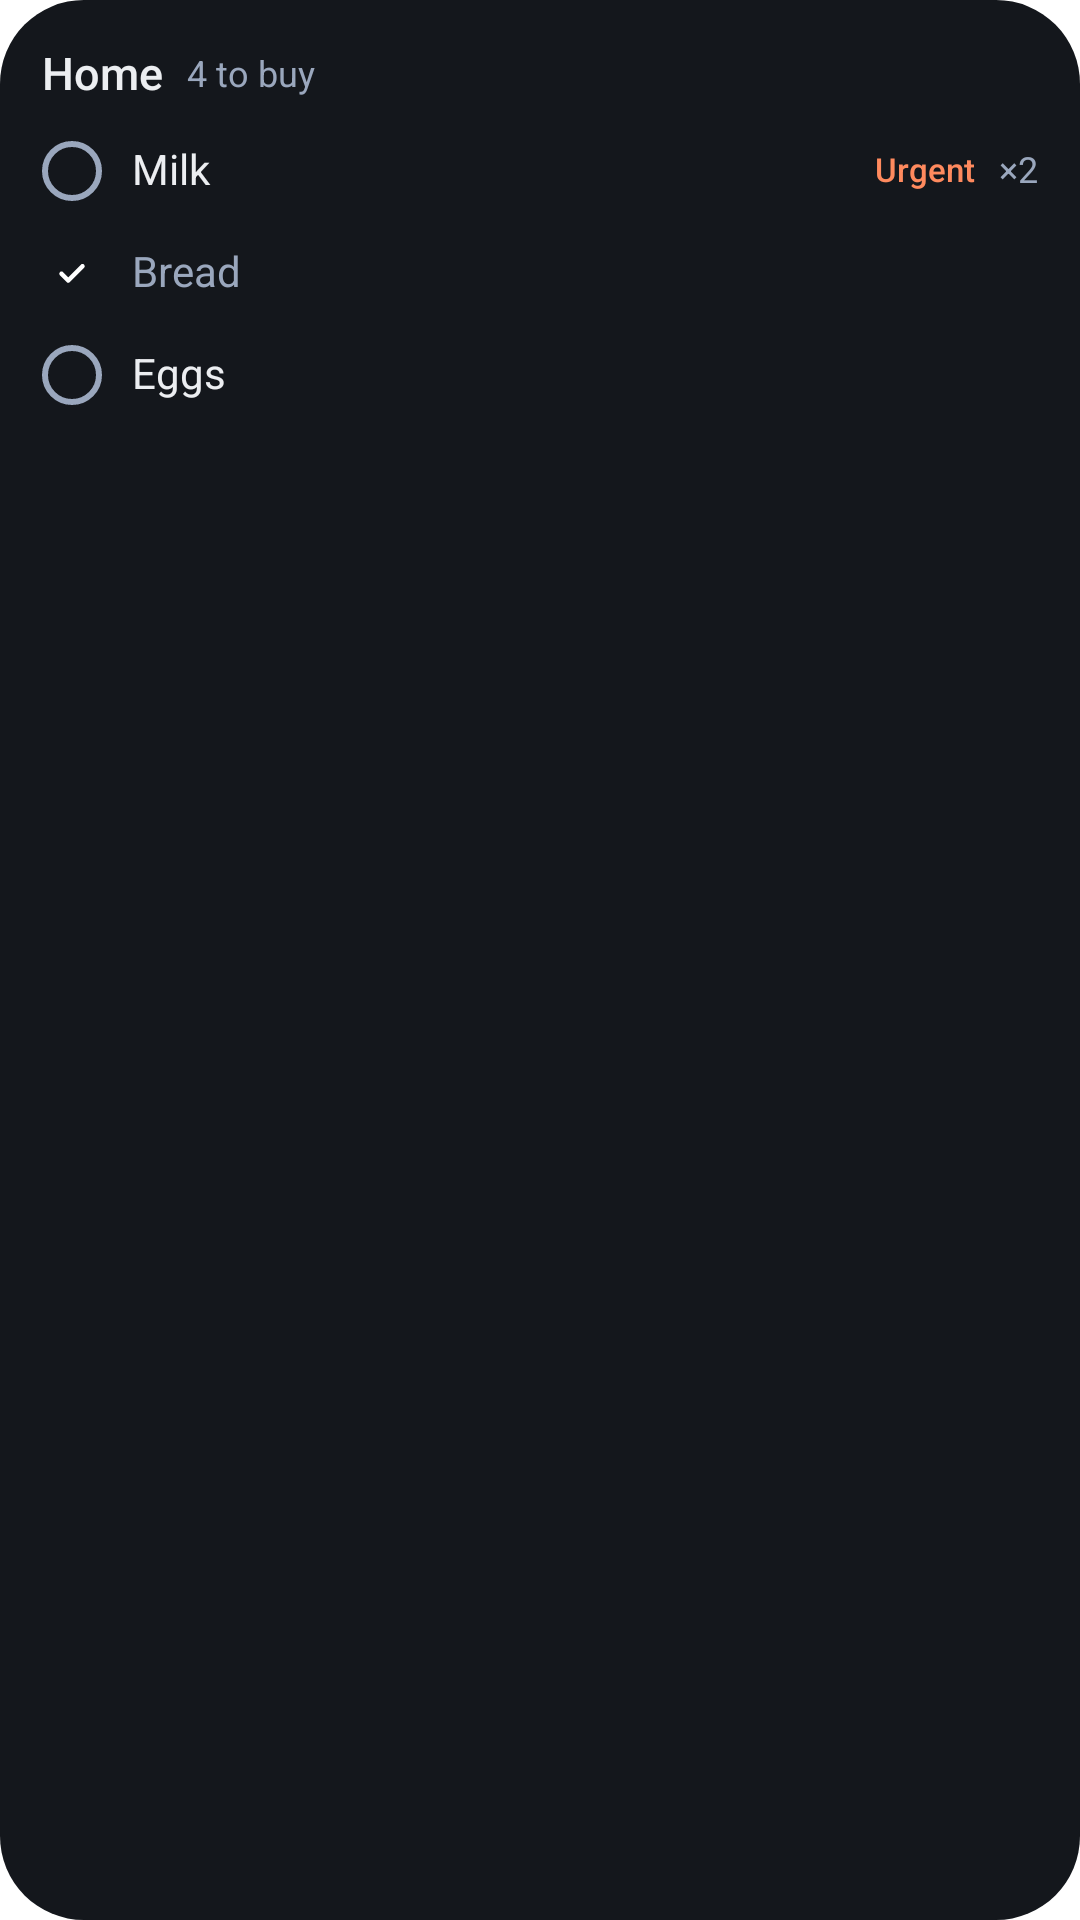

Locate icon controls on the screen. Image size 1080w x 1920h, boxes as (x1, y1, x2, y2).
check: (59, 264, 85, 283)
ring: (42, 141, 102, 201), (42, 345, 102, 405)
